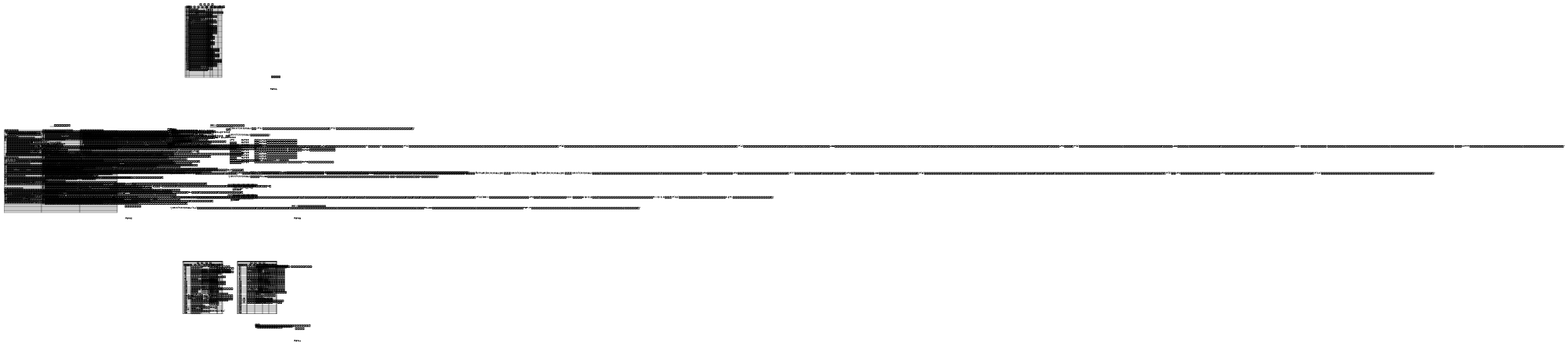door: (1054, 18, 1064, 19), (1054, 20, 1064, 21), (1054, 16, 1064, 17), (1074, 41, 1082, 42), (1075, 35, 1083, 36), (1074, 24, 1082, 25), (1074, 26, 1082, 27), (1075, 33, 1083, 34), (1075, 31, 1083, 32), (1075, 30, 1083, 31), (1074, 22, 1082, 23), (1074, 20, 1082, 21), (1074, 18, 1082, 19), (1075, 16, 1083, 17), (1075, 39, 1082, 40), (1075, 37, 1082, 38), (1076, 28, 1083, 29), (1056, 20, 1059, 21), (1056, 19, 1059, 19), (1056, 17, 1059, 17)
window: (1403, 141, 1429, 143), (1352, 141, 1371, 143), (1381, 141, 1400, 143), (1346, 141, 1364, 143), (1323, 141, 1341, 143), (1375, 141, 1392, 143), (1312, 144, 1328, 146), (1370, 144, 1386, 146), (1312, 132, 1328, 134), (1370, 132, 1386, 134), (1341, 144, 1356, 146), (1397, 144, 1412, 146), (1422, 144, 1437, 146), (1331, 141, 1346, 143), (1341, 132, 1356, 134), (1397, 132, 1412, 134), (1422, 132, 1437, 134), (1317, 141, 1331, 143), (1364, 141, 1375, 143), (1392, 141, 1403, 143), (1341, 141, 1352, 143), (1371, 141, 1381, 143), (1400, 141, 1409, 143), (1422, 141, 1426, 143), (1429, 141, 1433, 143)
